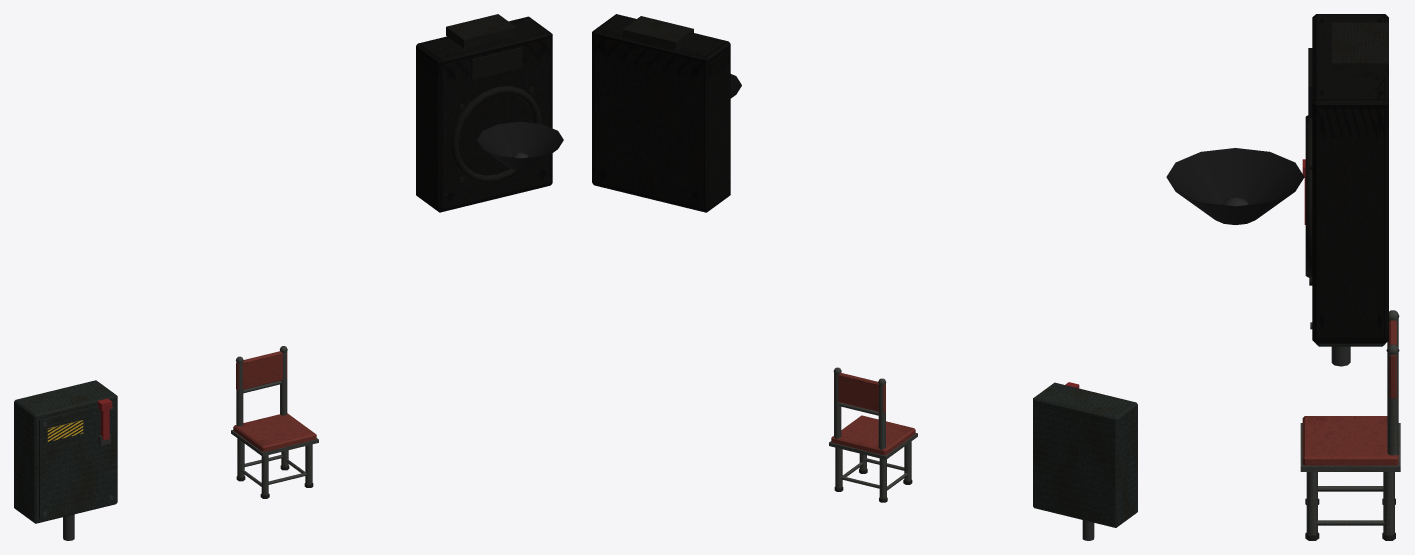
The model's file is chairs.glb.
3 views of the same model, side by side, from view 1: azimuth 30°, elevation 25°; view 2: azimuth 150°, elevation 25°; view 3: azimuth 270°, elevation 25° (orthographic). The views are drawn at different scales.
Visible parts, largest first — view 1: speaker, junction, chair, speaker_cone; view 2: speaker, junction, chair; view 3: speaker, chair, speaker_cone, junction.
Boxes of the visible parts, x1,y1,x2,y2 form: speaker: [416, 14, 552, 212]; junction: [14, 380, 117, 540]; chair: [231, 346, 318, 498]; speaker_cone: [477, 121, 563, 170]; speaker: [592, 14, 730, 212]; junction: [1033, 382, 1137, 540]; chair: [829, 367, 917, 502]; speaker: [1305, 14, 1388, 343]; chair: [1300, 310, 1400, 540]; speaker_cone: [1166, 148, 1304, 224]; junction: [1302, 159, 1384, 366].
Size of the model in its own units: 4.95 by 3.7 by 1.22.
12 materials, 6 textured.
